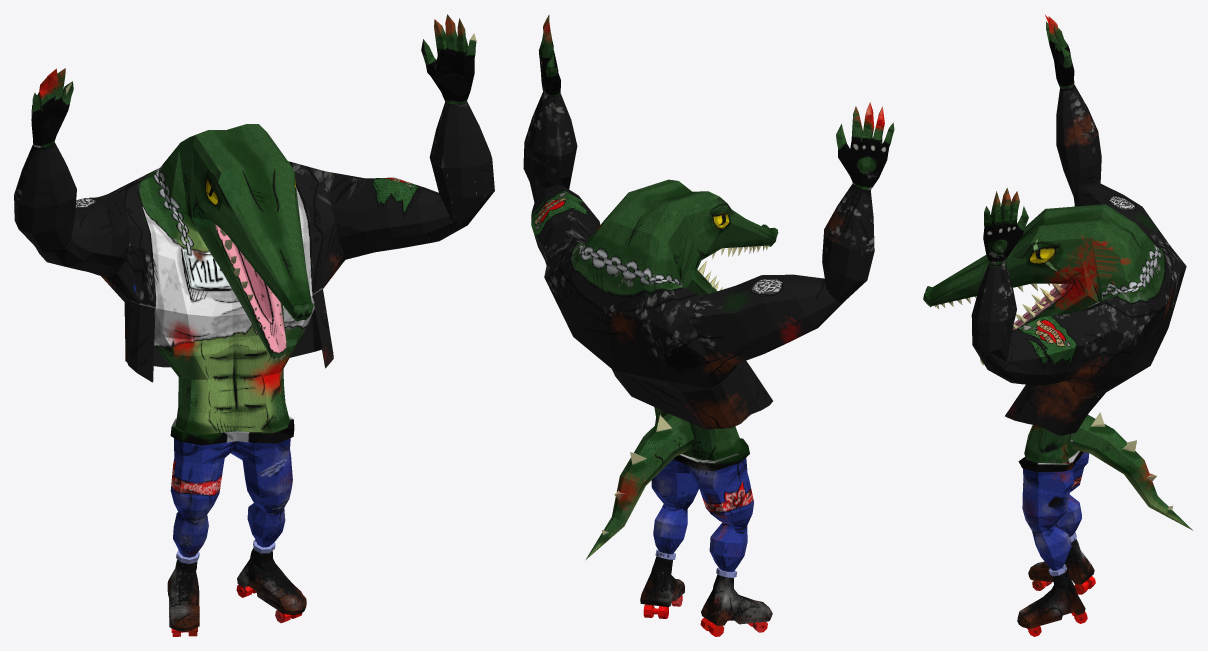
The model's file is cocodrilaBonesSelect_000036.obj.
The picture shows the model from 3 angles, left to right: view 1: azimuth 30°, elevation 25°; view 2: azimuth 150°, elevation 25°; view 3: azimuth 270°, elevation 25°; orthographic projection. The views are drawn at different scales.
Parts seen in each view (by area): view 1: Crocodile.002_Cylinder.002; view 2: Crocodile.002_Cylinder.002; view 3: Crocodile.002_Cylinder.002.
Part boxes in pixels (x1=…): Crocodile.002_Cylinder.002: x1=14, y1=14, x2=494, y2=636; Crocodile.002_Cylinder.002: x1=523, y1=15, x2=894, y2=636; Crocodile.002_Cylinder.002: x1=923, y1=15, x2=1193, y2=636.
Bounding box in the file's own units: 6.21 × 8.33 × 3.91.
